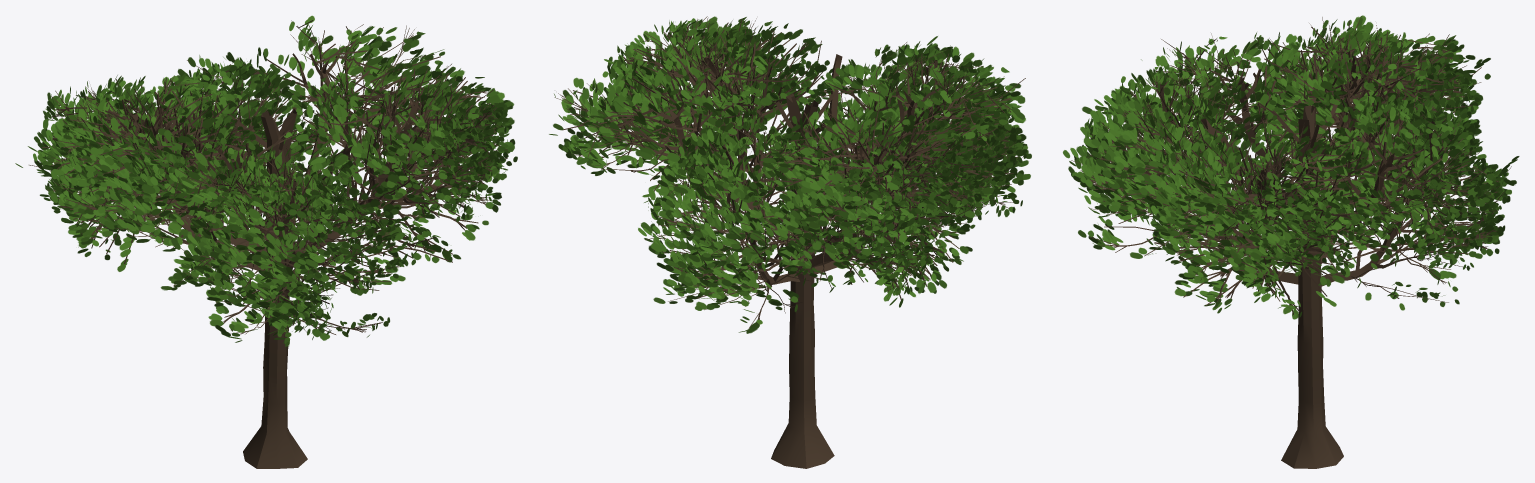
3 renders of one model, left to right at view 1: azimuth 30°, elevation 25°; view 2: azimuth 150°, elevation 25°; view 3: azimuth 270°, elevation 25°, orthographic. The views are drawn at different scales.
Visible parts, largest first — view 1: oak 01.001_trunk_Mat.001_0.016; view 2: oak 01.001_trunk_Mat.001_0.016; view 3: oak 01.001_trunk_Mat.001_0.016.
Boxes of the visible parts, <box> form: oak 01.001_trunk_Mat.001_0.016: <box>15,15,517,468</box>; oak 01.001_trunk_Mat.001_0.016: <box>549,16,1031,468</box>; oak 01.001_trunk_Mat.001_0.016: <box>1063,15,1519,468</box>.
Bounding box in the file's own units: 5.13 × 4.13 × 4.71.
2 materials, 1 textured.
